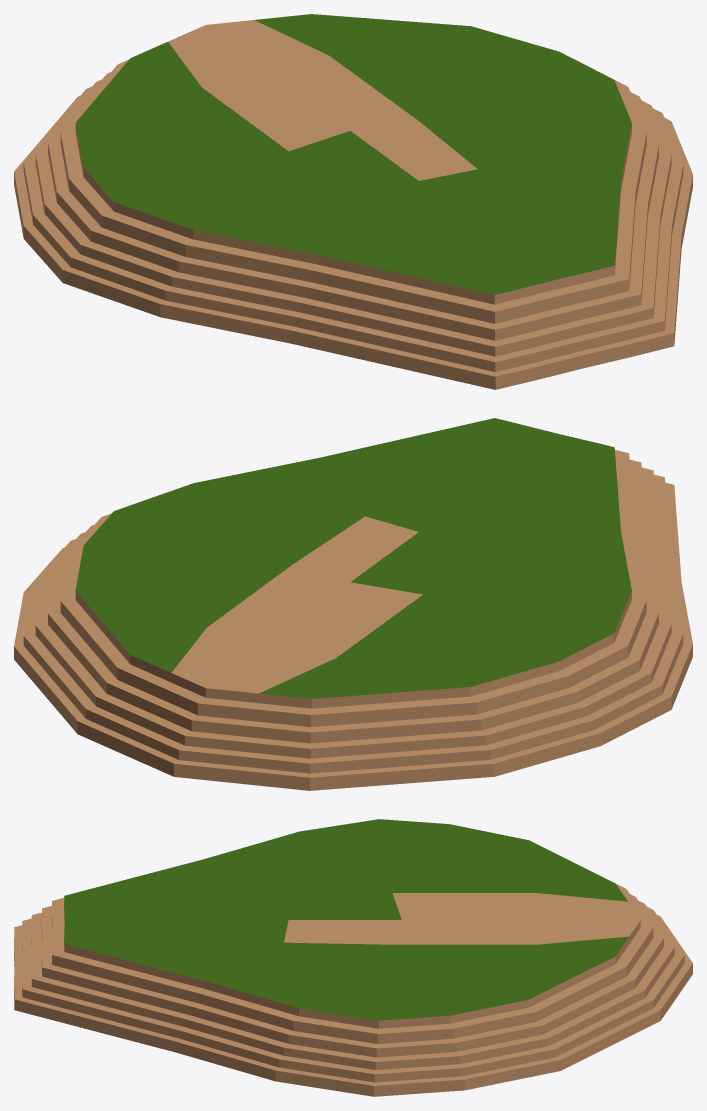
The model's file is iseland.fbx.
3 renders of one model, top to bottom at view 1: azimuth 30°, elevation 25°; view 2: azimuth 150°, elevation 25°; view 3: azimuth 270°, elevation 25°, orthographic. The views are drawn at different scales.
Parts seen in each view (by area): view 1: Plane; view 2: Plane; view 3: Plane.
Part boxes in pixels (left/top/right/bottom): Plane: left=14, top=14, right=692, bottom=389; Plane: left=14, top=418, right=692, bottom=790; Plane: left=14, top=819, right=692, bottom=1096.
Size of the model in its own units: 52.26 by 5.38 by 61.12.
1 material, 1 textured.
